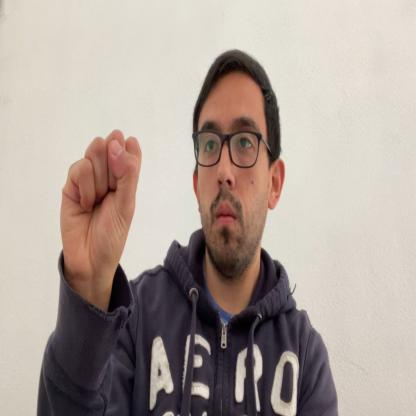S: (60, 127, 142, 273)
